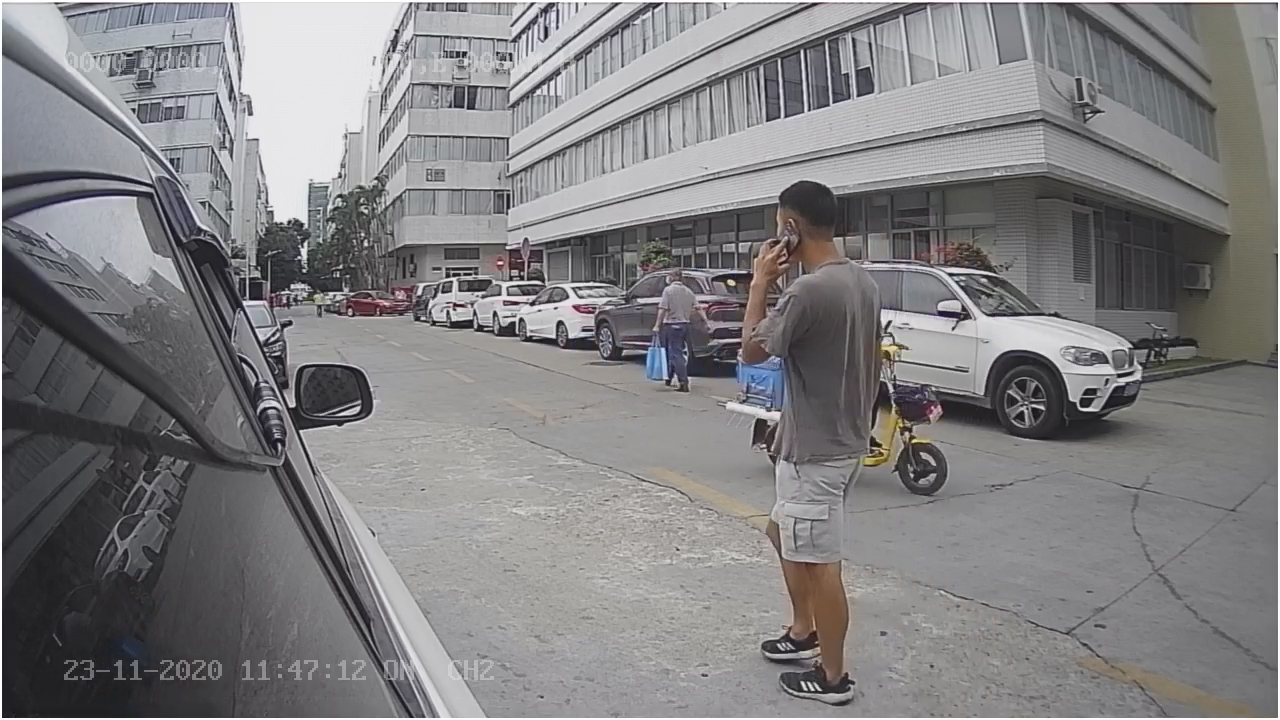person: (739, 176, 923, 702)
